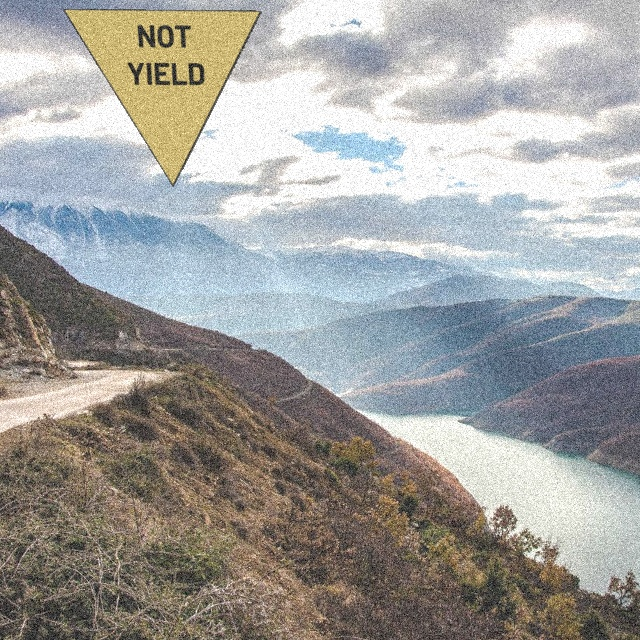NOT_YIELD: (62, 8, 262, 187)
